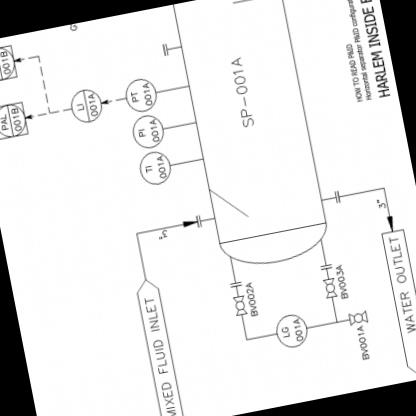LMI: (133, 146, 174, 190), (272, 307, 310, 349), (127, 111, 166, 151), (122, 74, 160, 115)
TAG: (0, 98, 30, 143), (0, 41, 18, 85)
